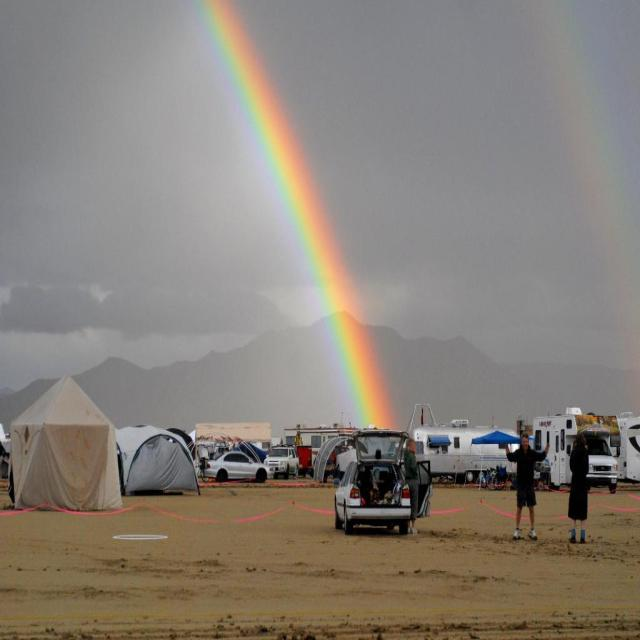car: (324, 432, 427, 539), (201, 447, 273, 479)
